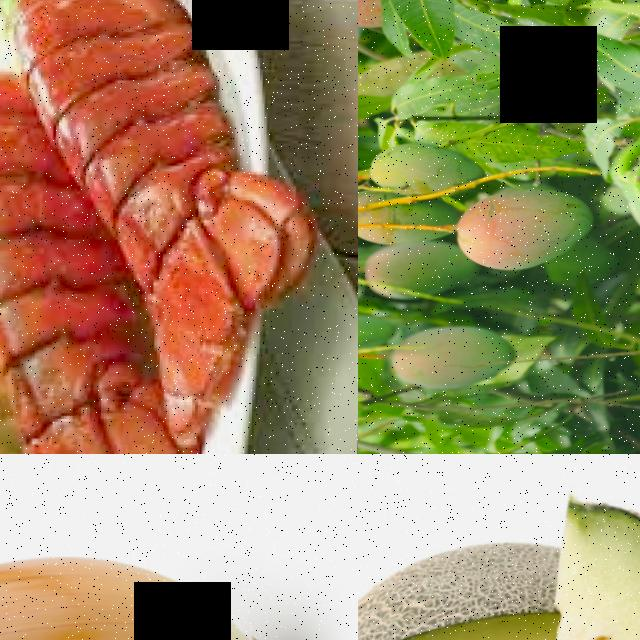lobster tails: (69, 0, 317, 363), (0, 225, 169, 454)
mango: (454, 189, 593, 276), (393, 326, 516, 390), (360, 243, 468, 302), (365, 143, 480, 189), (358, 196, 450, 246)
melon: (358, 530, 552, 640), (538, 485, 640, 640)
onion: (0, 543, 315, 640)
